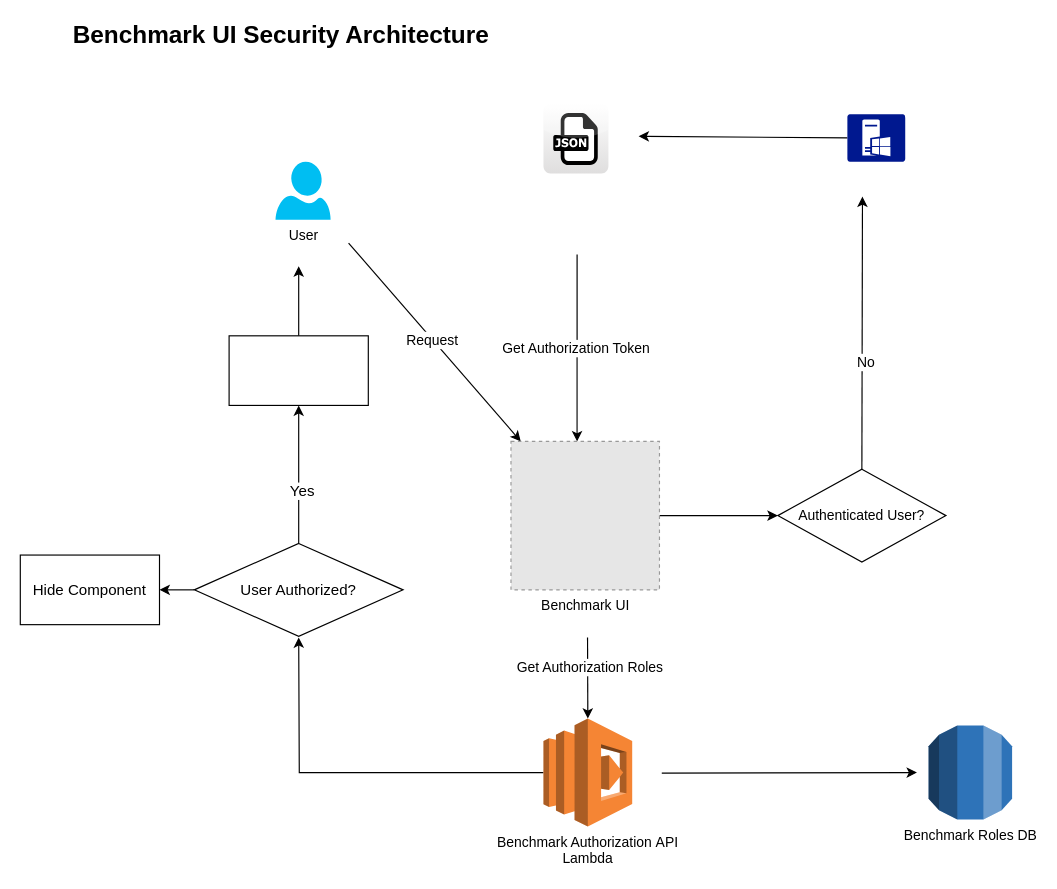
This 1057x889 diagram has some shape labels left out. Grey dashed boxes stand in for pictures. Here are the shapes that lost their labels. From the top down, the centre of each, then its label:
At point (575, 138): "Authorization JWT Token User Name Email Address AD Group Memberships".
At point (876, 137): "ADFS Single Sign On".
At point (298, 370): "Display Component".
